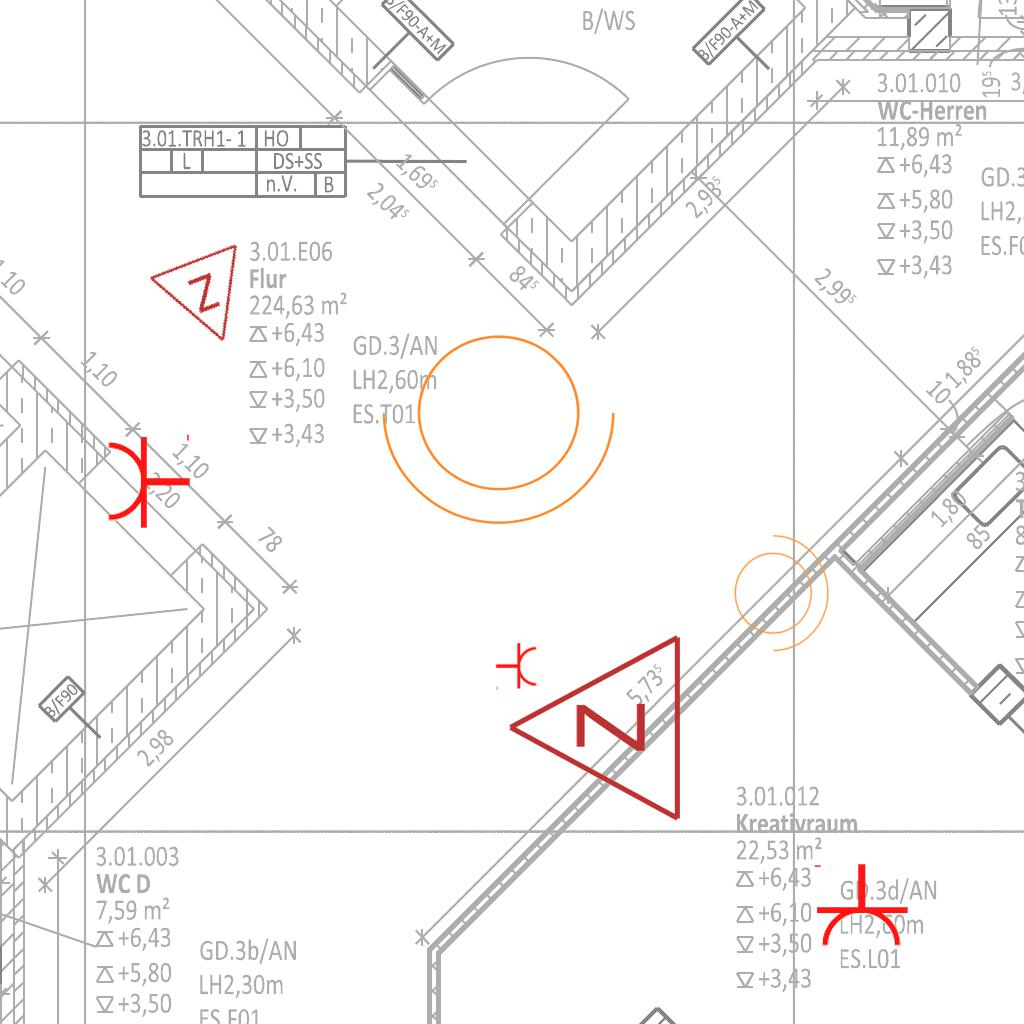Scheinwerfer_fuer_Alarmbeleuchtung: (373, 310, 637, 535), (722, 524, 834, 656)
Schukosteckdose_einfach: (810, 862, 910, 949), (105, 430, 192, 530), (495, 642, 538, 692)
Zimmersignalleuchte: (495, 632, 695, 828), (145, 235, 273, 365)
